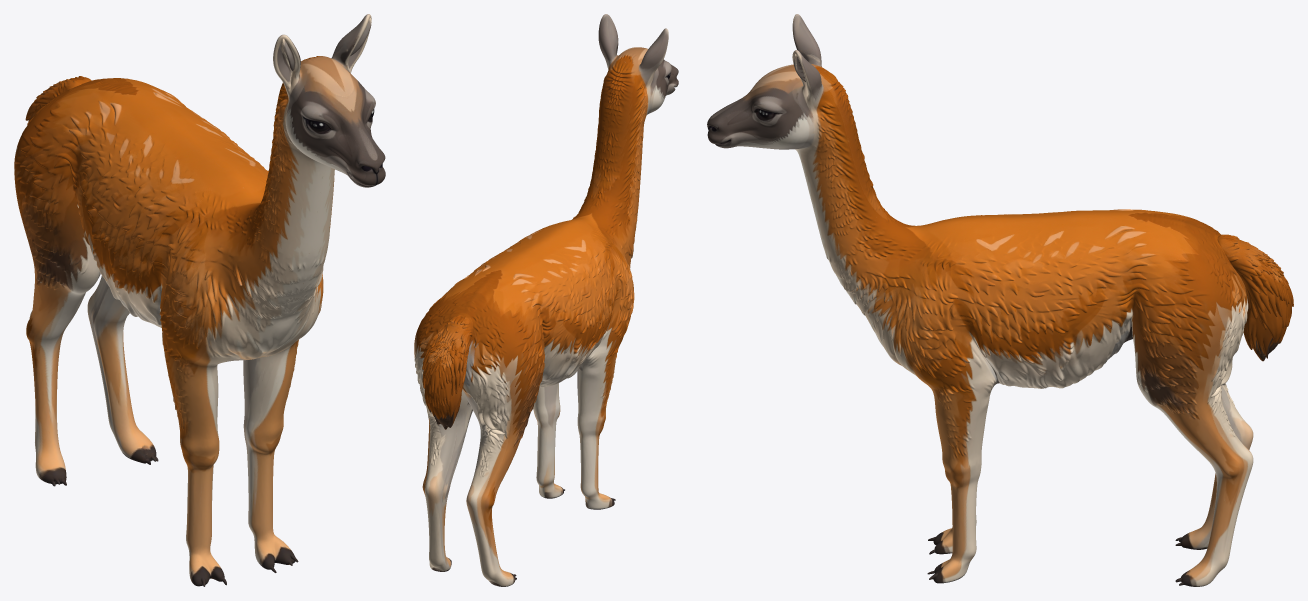
File: guanaco.glb
3 views of the same model, side by side, from view 1: azimuth 30°, elevation 25°; view 2: azimuth 150°, elevation 25°; view 3: azimuth 270°, elevation 25° (orthographic). The views are drawn at different scales.
Size of the model in its own units: 0.0275 by 0.1 by 0.0998.
1 material, 1 textured.
